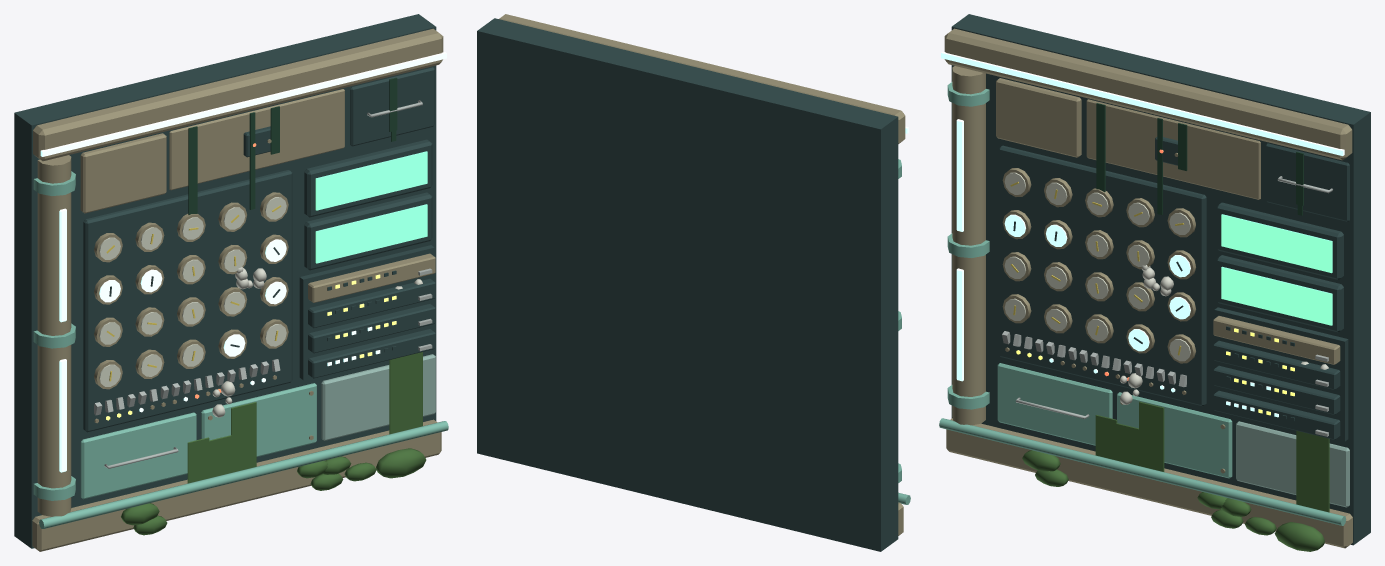
The model's file is wall_dr_gauges.glb.
The picture shows the model from 3 angles, left to right: view 1: azimuth 30°, elevation 25°; view 2: azimuth 150°, elevation 25°; view 3: azimuth 330°, elevation 25°; orthographic projection.
Parts seen in each view (by area): view 1: wall_dr_gauges; view 2: wall_dr_gauges; view 3: wall_dr_gauges.
Part boxes in pixels (x1,y1,x2,y2): wall_dr_gauges: (14, 14, 448, 551); wall_dr_gauges: (477, 14, 910, 551); wall_dr_gauges: (939, 14, 1370, 551).
Bounding box in the file's own units: 4 × 4.08 × 0.555.
